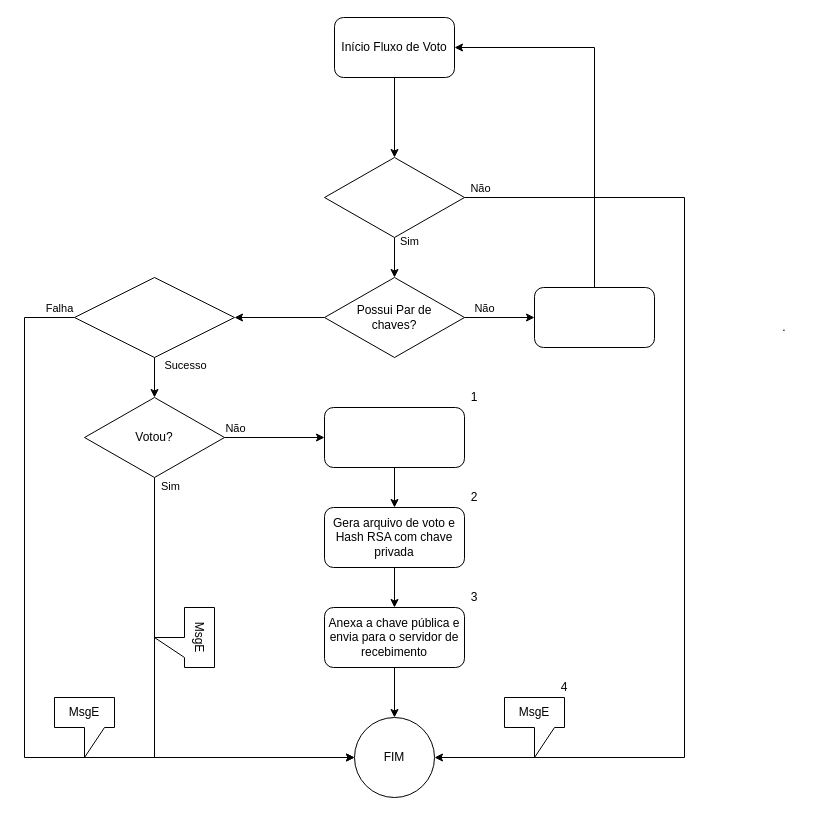
This 822x815 diagram has some shape labels left out. The shapes that lost their labels are listed below. From the top down, each one's centre as x and y in pixels, then its label:
point (394, 197): Está aberto o período de voto?
point (154, 317): Login com o token
point (594, 317): Fluxo de geração de chaves
point (394, 437): Voto: Escolha de candidatos
